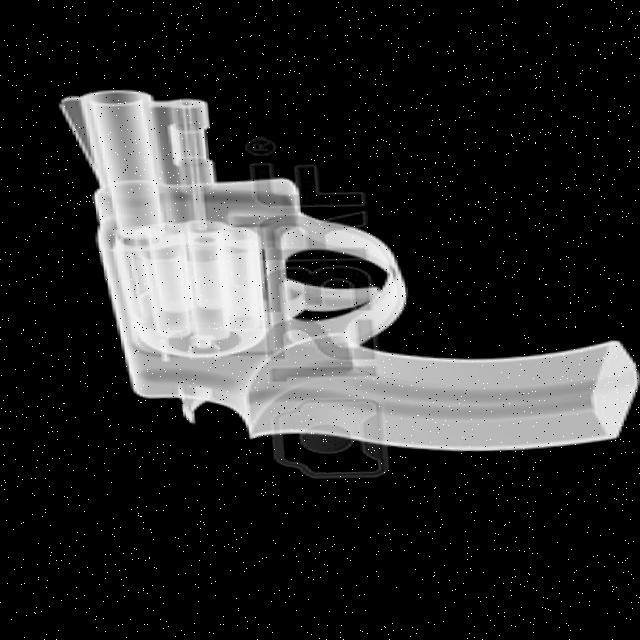pistol: (52, 49, 640, 479)
